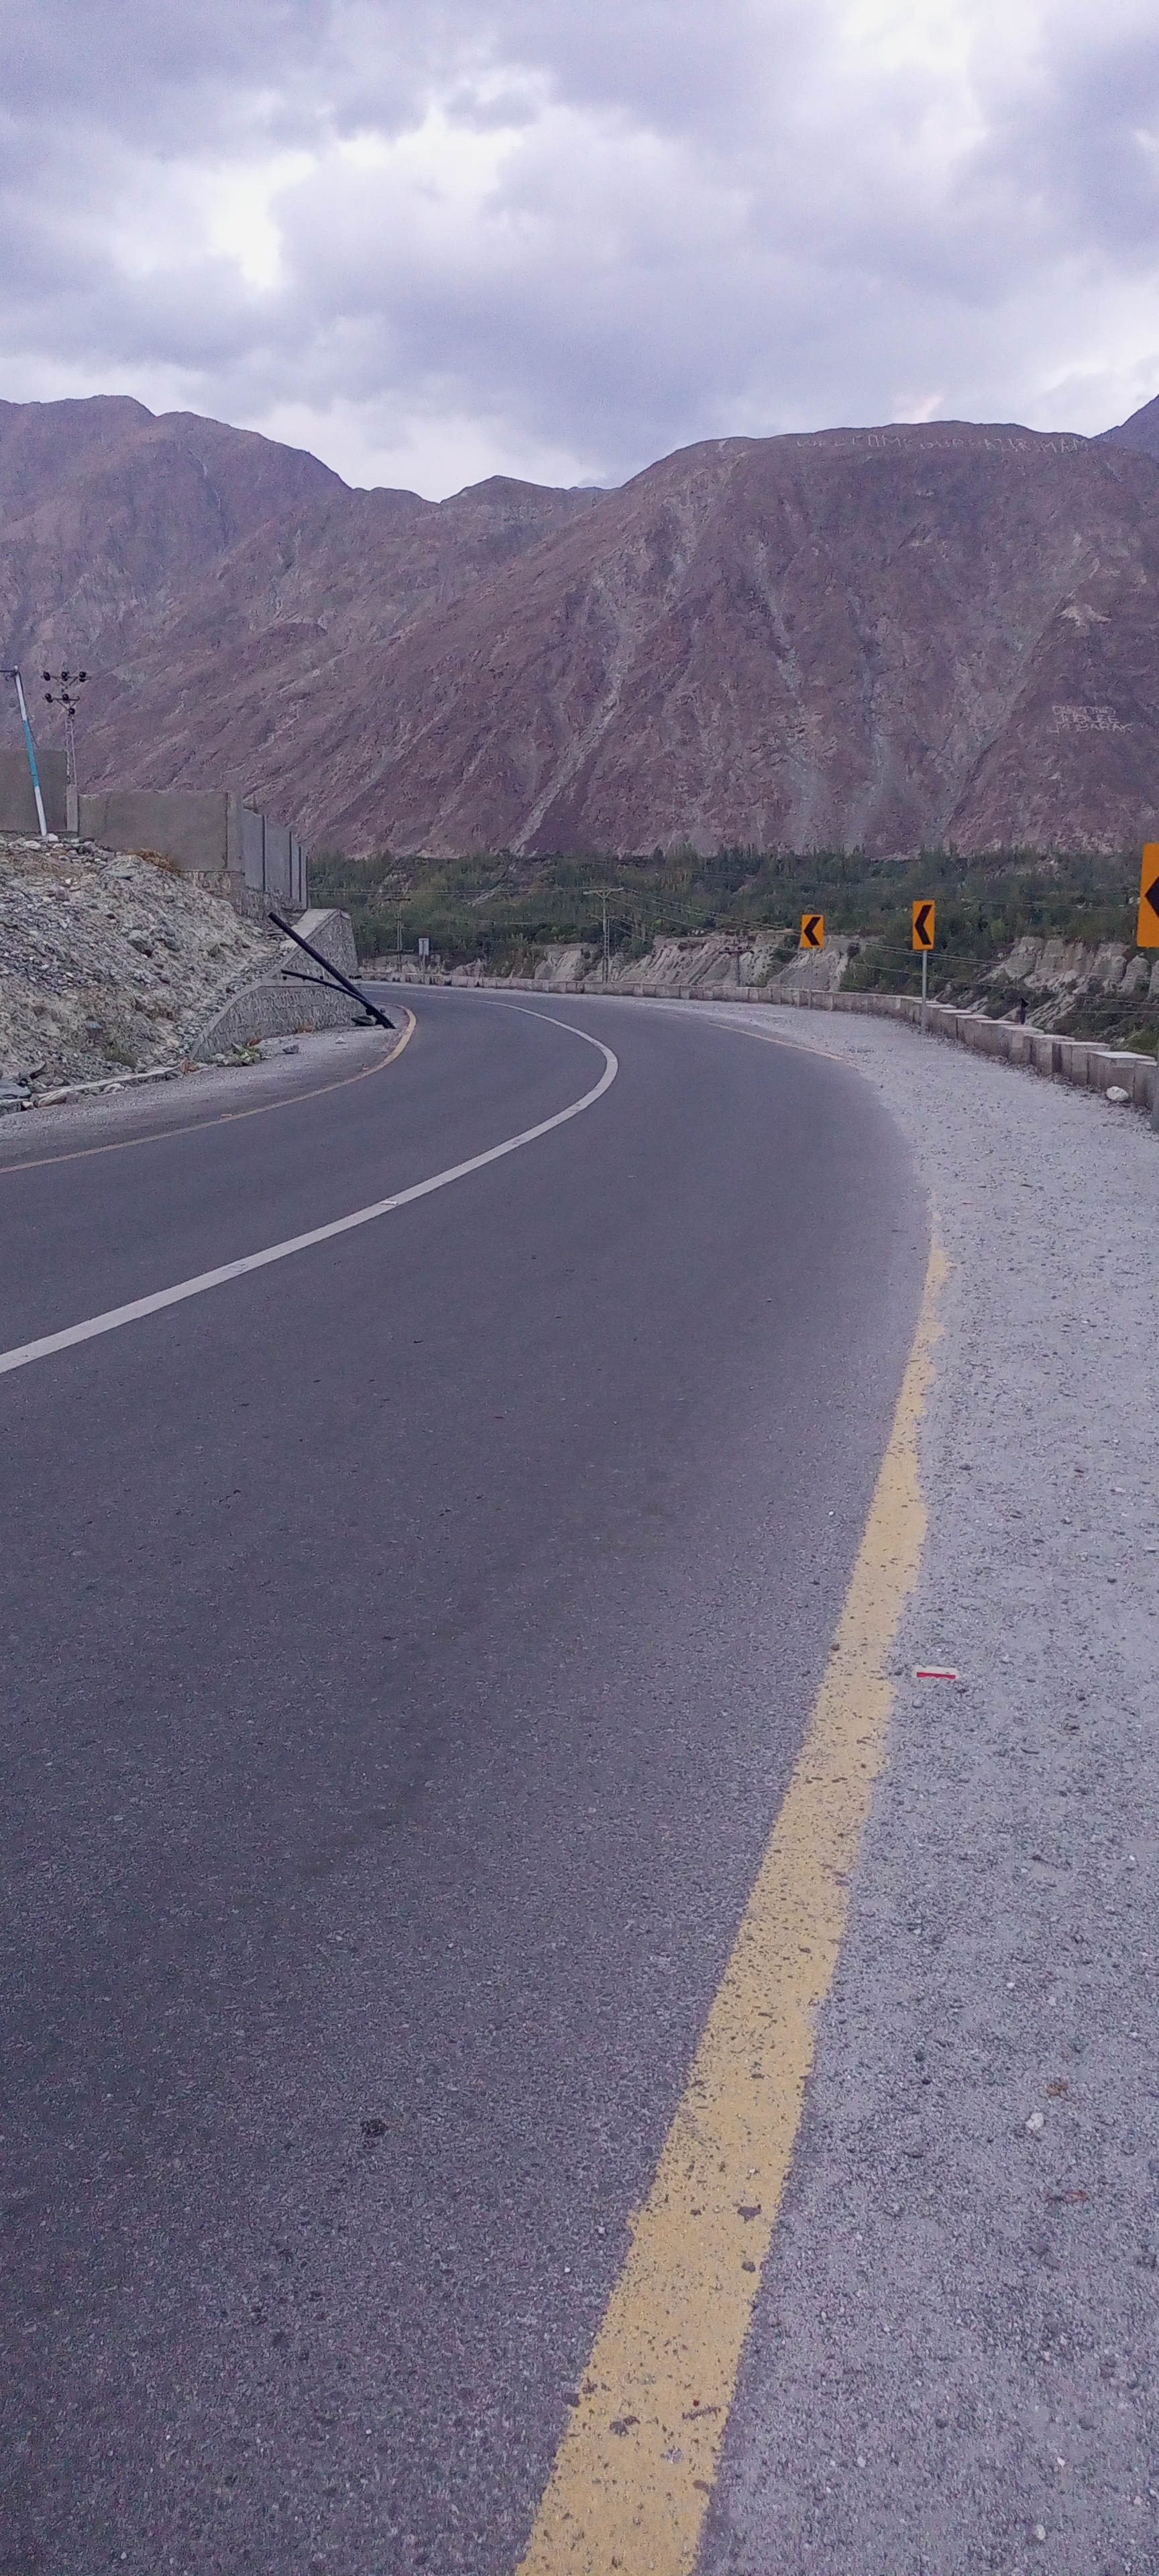leftTrun: (326, 943, 1010, 1620)
